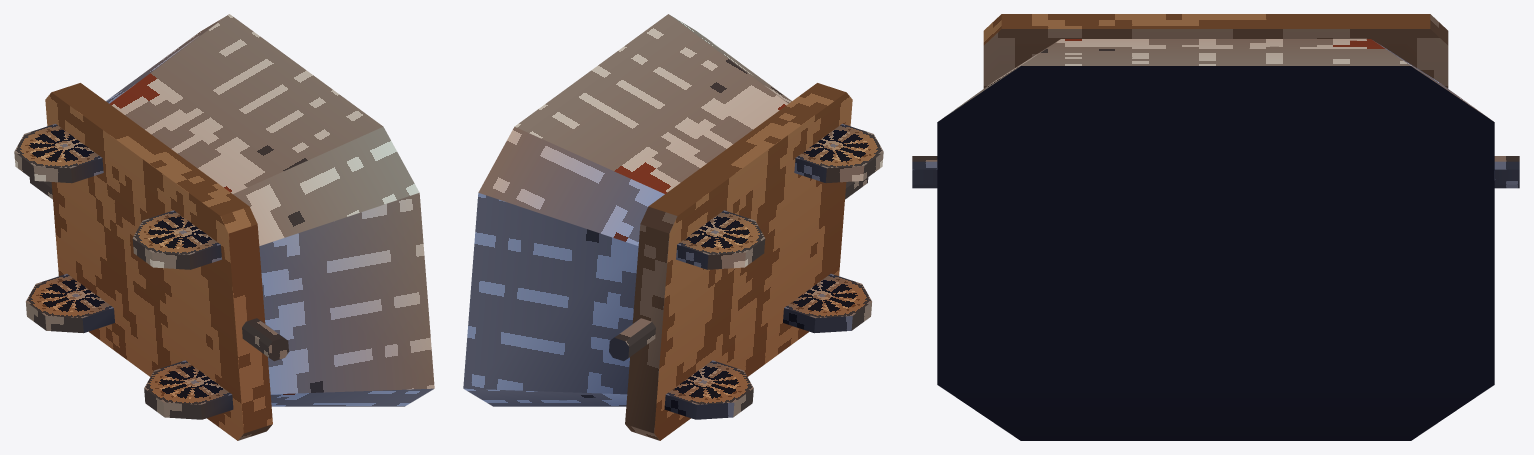
File: wmine.cart__tipped.glb
The picture shows the model from 3 angles, left to right: view 1: azimuth 30°, elevation 25°; view 2: azimuth 150°, elevation 25°; view 3: azimuth 270°, elevation 25°; orthographic projection. The views are drawn at different scales.
Visible parts, largest first — view 1: kit_tub, kit_frame, kit_wheels, kit_couplers; view 2: kit_tub, kit_frame, kit_wheels, kit_couplers; view 3: kit_tub, kit_frame, kit_couplers.
Part boxes in pixels (left/top/right/bottom): kit_tub: left=106, top=14, right=434, bottom=406; kit_frame: left=45, top=83, right=272, bottom=440; kit_wheels: left=14, top=124, right=233, bottom=419; kit_couplers: left=29, top=177, right=288, bottom=361; kit_tub: left=463, top=14, right=791, bottom=406; kit_frame: left=625, top=83, right=852, bottom=440; kit_wheels: left=664, top=124, right=883, bottom=419; kit_couplers: left=609, top=177, right=868, bottom=361; kit_tub: left=937, top=39, right=1494, bottom=440; kit_frame: left=983, top=14, right=1448, bottom=88; kit_couplers: left=912, top=156, right=1519, bottom=188.
Bounding box in the file's own units: 1 × 1.12 × 1.7.
Materials: 5 (5 with a texture image).
